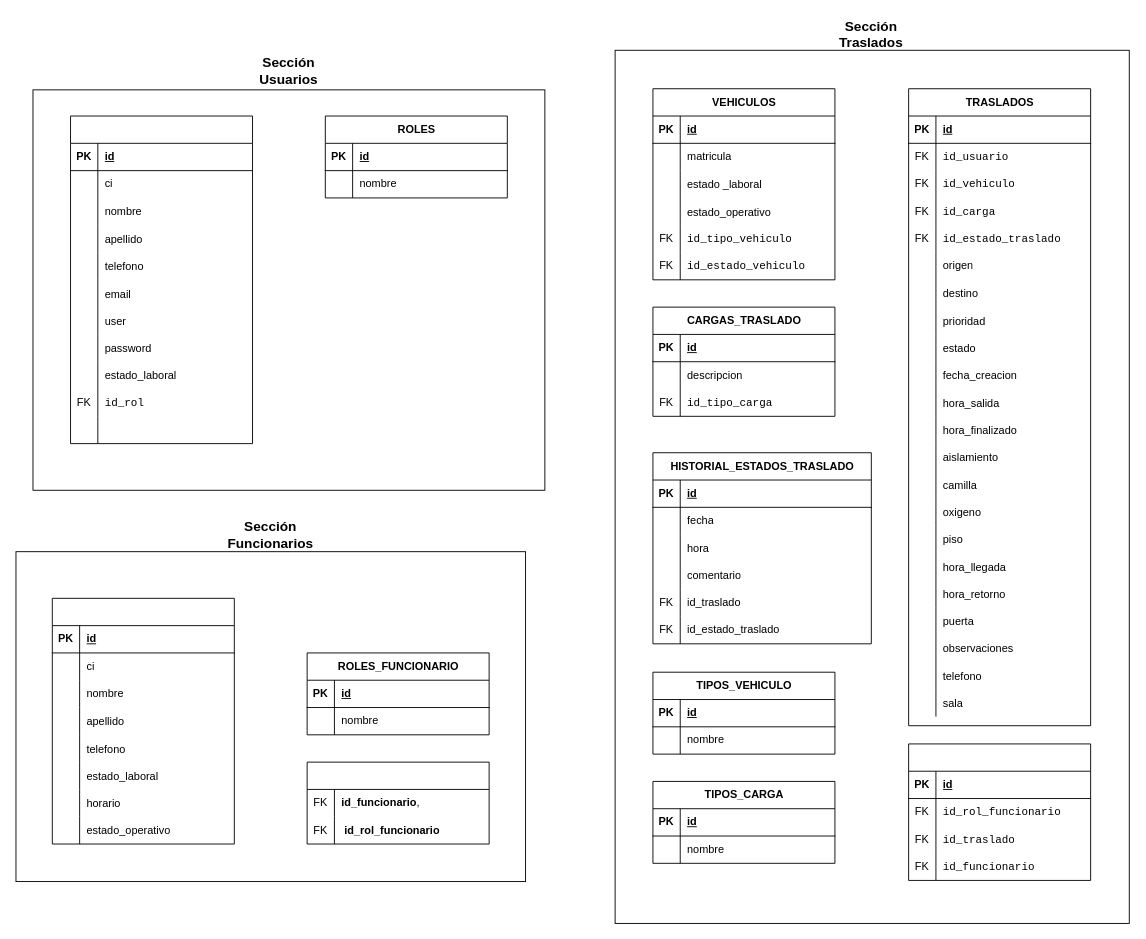
The diagram is 1146 pixels wide and 939 high, and some of its shapes have lost their labels. Here are the shapes that lost their labels. From the top down, the box of each, then its label:
(70, 115, 253, 444): USUARIOS
(51, 597, 234, 844): FUNCIONARIOS
(306, 761, 489, 844): FUNCIONARIO_ROL
(908, 743, 1091, 880): TRASLADO_FUNCIONARIO
